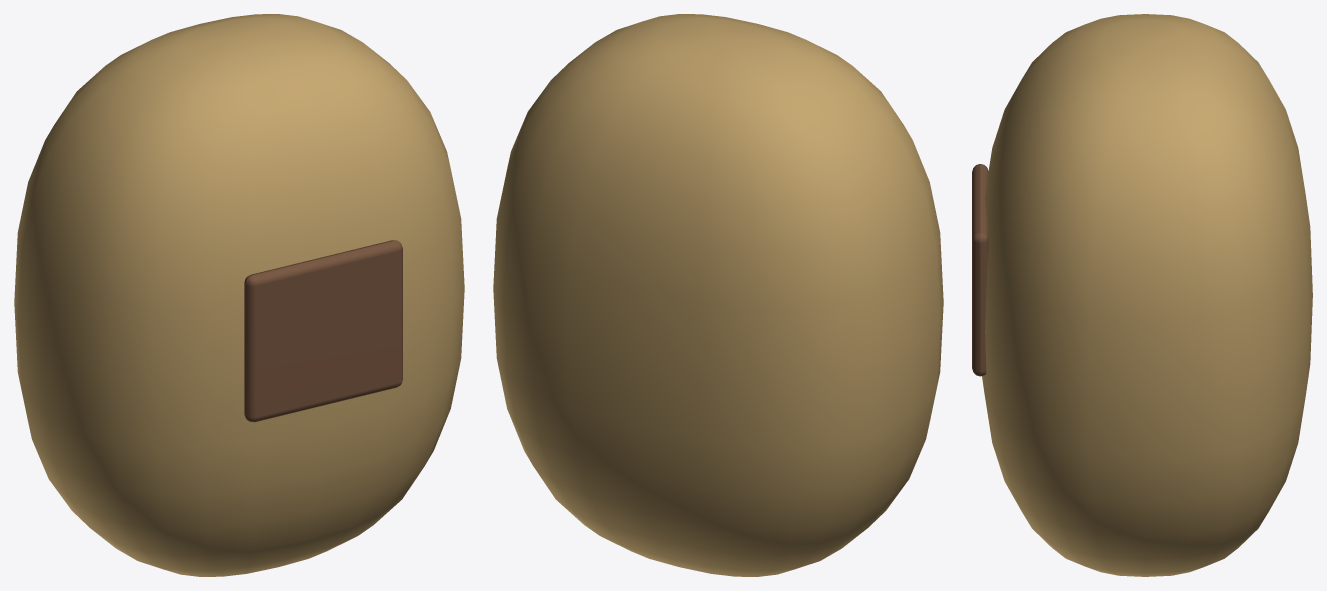
Rendered from feed_sack.glb.
3 renders of one model, left to right at view 1: azimuth 30°, elevation 25°; view 2: azimuth 150°, elevation 25°; view 3: azimuth 270°, elevation 25°, orthographic. The views are drawn at different scales.
Parts seen in each view (by area): view 1: FeedSack, Patch; view 2: FeedSack; view 3: FeedSack, Patch.
Part boxes in pixels (bbox=[...]): FeedSack: bbox=[14, 14, 464, 576]; Patch: bbox=[244, 240, 402, 422]; FeedSack: bbox=[493, 14, 943, 576]; FeedSack: bbox=[982, 14, 1312, 576]; Patch: bbox=[972, 164, 988, 376].
Size of the model in its own units: 0.48 by 0.6 by 0.366.
